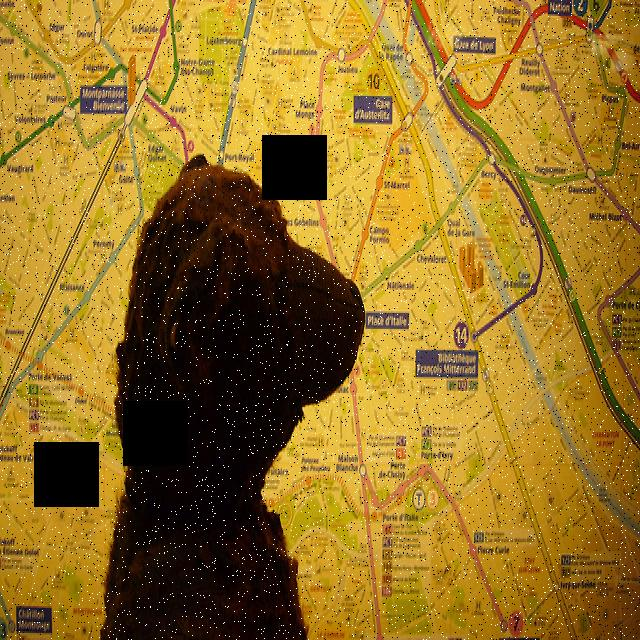Bear: (104, 150, 368, 640)
